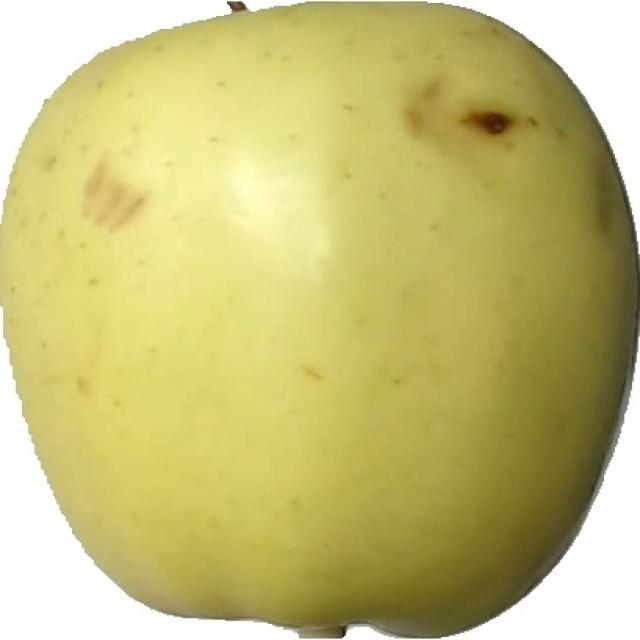Golden Elma: (3, 0, 632, 640)
